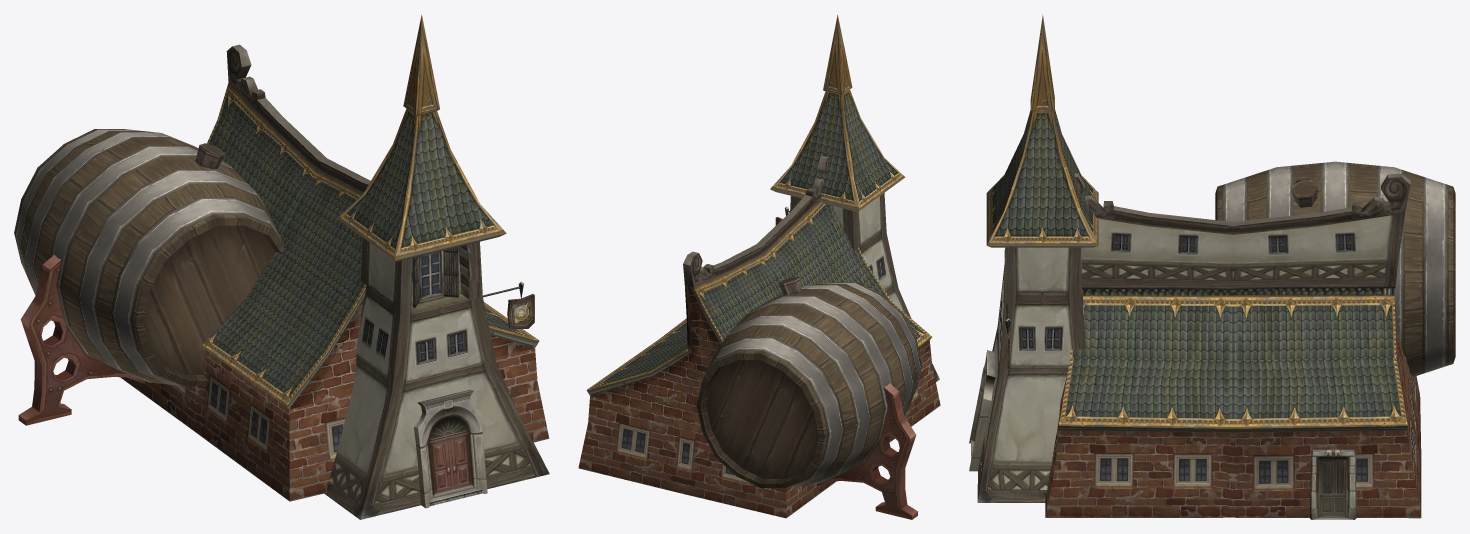
The model's file is DN_ghbd01.FBX.
3 renders of one model, left to right at view 1: azimuth 30°, elevation 25°; view 2: azimuth 150°, elevation 25°; view 3: azimuth 270°, elevation 25°, orthographic. The views are drawn at different scales.
Parts seen in each view (by area): view 1: DN_ghbd01; view 2: DN_ghbd01; view 3: DN_ghbd01.
Boxes of the visible parts, x1,y1,x2,y2 form: DN_ghbd01: [14, 14, 549, 519]; DN_ghbd01: [578, 15, 940, 519]; DN_ghbd01: [969, 14, 1455, 519].
Bounding box in the file's own units: 1353 × 1561 × 1546.
